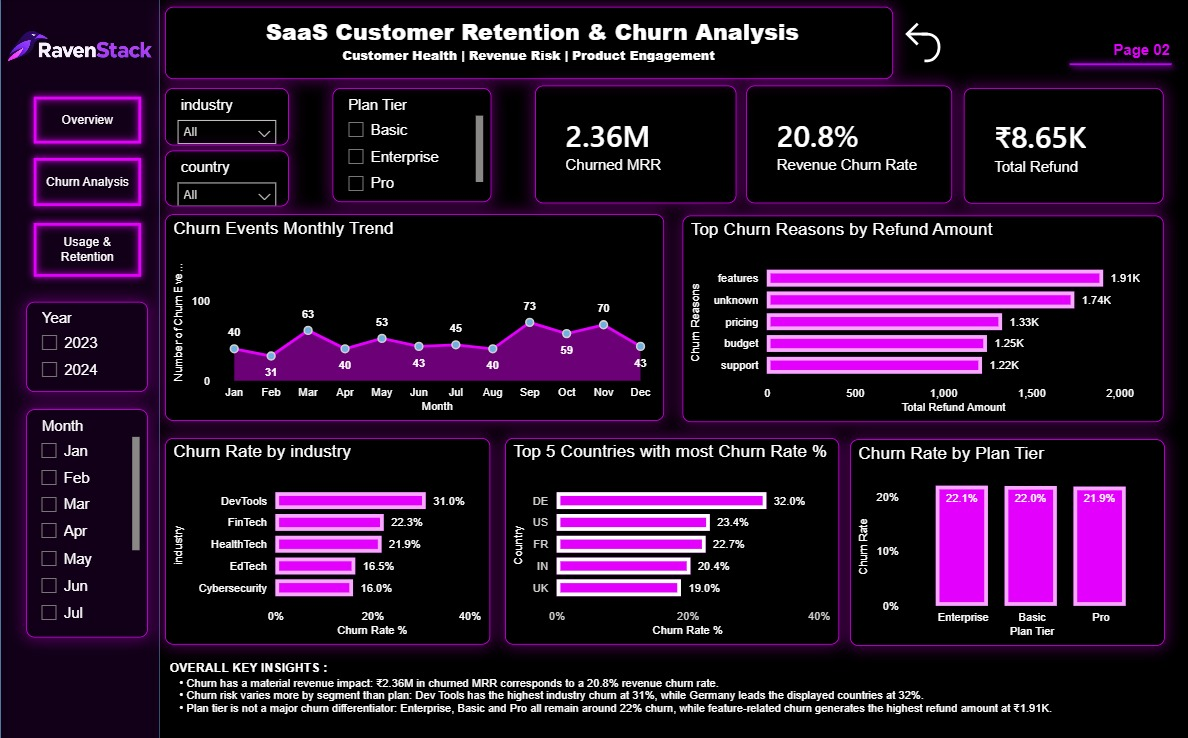

Layout of this report page (visuals, bound fields, positions):
{"tool":"powerbi","page":{"name":"Customer & Churn Analysis","canvas":[1280,800],"ordinal":1},"visuals":[{"type":"shape","box":[0,0,171.6,800.3],"z":0},{"type":"clusteredBarChart","title":"Churn Rate by industry","fields":{"Category":["ravenstack_accounts.industry"],"Y":["ravenstack_accounts.Churn Rate %"]},"box":[177.5,472.5,348.8,221.2],"z":1000},{"type":"clusteredBarChart","title":"Top 5 Countries with most Churn Rate %","fields":{"Category":["ravenstack_accounts.country"],"Y":["ravenstack_accounts.Churn Rate %"]},"box":[541.2,472.5,358.8,221.2],"z":2000},{"type":"cardVisual","fields":{"Data":["ravenstack_accounts.Churned MRR"]},"box":[573.5,94.3,216,126.6],"z":3000},{"type":"clusteredColumnChart","title":"Churn Rate by Plan Tier","fields":{"Category":["ravenstack_accounts.Plan Tier"],"Y":["ravenstack_accounts.Churn Rate %"]},"box":[911.2,473.8,337.5,221.2],"z":4000},{"type":"lineChart","title":"Churn Events Monthly Trend","fields":{"Y":["CountNonNull(ravenstack_churn_events.churn_event_id)"],"Category":["DateTable.Month"]},"box":[177.5,232.5,535,221.2],"z":5000},{"type":"clusteredBarChart","title":"Top Churn Reasons by Refund Amount","fields":{"Category":["ravenstack_churn_events.reason_code"],"Y":["Sum(ravenstack_churn_events.refund_amount_usd)"]},"box":[732.5,233.8,516.2,221.2],"z":6000},{"type":"slicer","fields":{"Values":["ravenstack_accounts.plan_tier"]},"box":[356.2,96.8,170.2,122.1],"z":7000},{"type":"slicer","fields":{"Values":["ravenstack_accounts.industry"]},"box":[177.5,96.2,133,61.6],"z":8000},{"type":"slicer","fields":{"Values":["ravenstack_accounts.country"]},"box":[177.5,163.8,133.1,60.4],"z":9000},{"type":"cardVisual","fields":{"Data":["ravenstack_accounts.Revenue Churn Rate"]},"box":[800.6,94.3,220.9,126.6],"z":10000},{"type":"actionButton","box":[27.5,97.5,131.2,66.2],"z":11000},{"type":"actionButton","box":[27.5,163.8,131.2,67.5],"z":12000},{"type":"actionButton","box":[27.5,233.8,131.2,73.8],"z":13000},{"type":"cardVisual","fields":{"Data":["ravenstack_churn_events.Total Refund"]},"box":[1034,96.8,214.7,124.1],"z":14000},{"type":"slicer","fields":{"Values":["DateTable.Year"]},"box":[27.7,325.7,130.3,96.5],"z":15000},{"type":"slicer","fields":{"Values":["DateTable.Month"]},"box":[27.7,441.6,130.3,244.9],"z":16000},{"type":"textbox","box":[176.9,9.4,780.6,77.2],"z":17000},{"type":"textbox","box":[176.9,706.4,1071.1,79.1],"z":18000},{"type":"actionButton","box":[962.5,20.1,59,55],"z":19000},{"type":"textbox","box":[1188.8,41.6,91.2,29.5],"z":20000},{"type":"shape","box":[1138.1,0,127.3,142.1],"z":21000},{"type":"image","box":[0,0,171.6,92.5],"z":22000}]}

Visuals, with their boxes in screenshot pixels (x1, y1, x2, y2), scaled from the page's 1280x800 canvas onto the 1188x738 screenshot:
shape: bbox=(0, 0, 159, 737)
"Churn Rate by industry" clusteredBarChart: bbox=(165, 436, 488, 640)
"Top 5 Countries with most Churn Rate %" clusteredBarChart: bbox=(502, 436, 835, 640)
cardVisual - ravenstack_accounts.Churned MRR: bbox=(532, 87, 733, 204)
"Churn Rate by Plan Tier" clusteredColumnChart: bbox=(846, 437, 1159, 641)
"Churn Events Monthly Trend" lineChart: bbox=(165, 214, 661, 419)
"Top Churn Reasons by Refund Amount" clusteredBarChart: bbox=(680, 216, 1159, 420)
slicer - ravenstack_accounts.plan_tier: bbox=(331, 89, 489, 202)
slicer - ravenstack_accounts.industry: bbox=(165, 89, 288, 146)
slicer - ravenstack_accounts.country: bbox=(165, 151, 288, 207)
cardVisual - ravenstack_accounts.Revenue Churn Rate: bbox=(743, 87, 948, 204)
actionButton: bbox=(26, 90, 147, 151)
actionButton: bbox=(26, 151, 147, 213)
actionButton: bbox=(26, 216, 147, 284)
cardVisual - ravenstack_churn_events.Total Refund: bbox=(960, 89, 1159, 204)
slicer - DateTable.Year: bbox=(26, 300, 147, 389)
slicer - DateTable.Month: bbox=(26, 407, 147, 633)
textbox: bbox=(164, 9, 889, 80)
textbox: bbox=(164, 652, 1158, 725)
actionButton: bbox=(893, 19, 948, 69)
textbox: bbox=(1103, 38, 1187, 66)
shape: bbox=(1056, 0, 1174, 131)
image: bbox=(0, 0, 159, 85)
